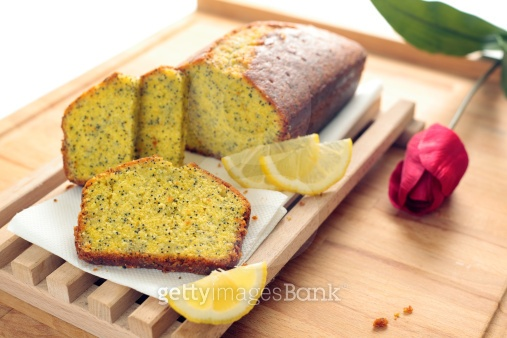slice of bread: (120, 17, 371, 170), (73, 153, 247, 273), (57, 63, 190, 186)
